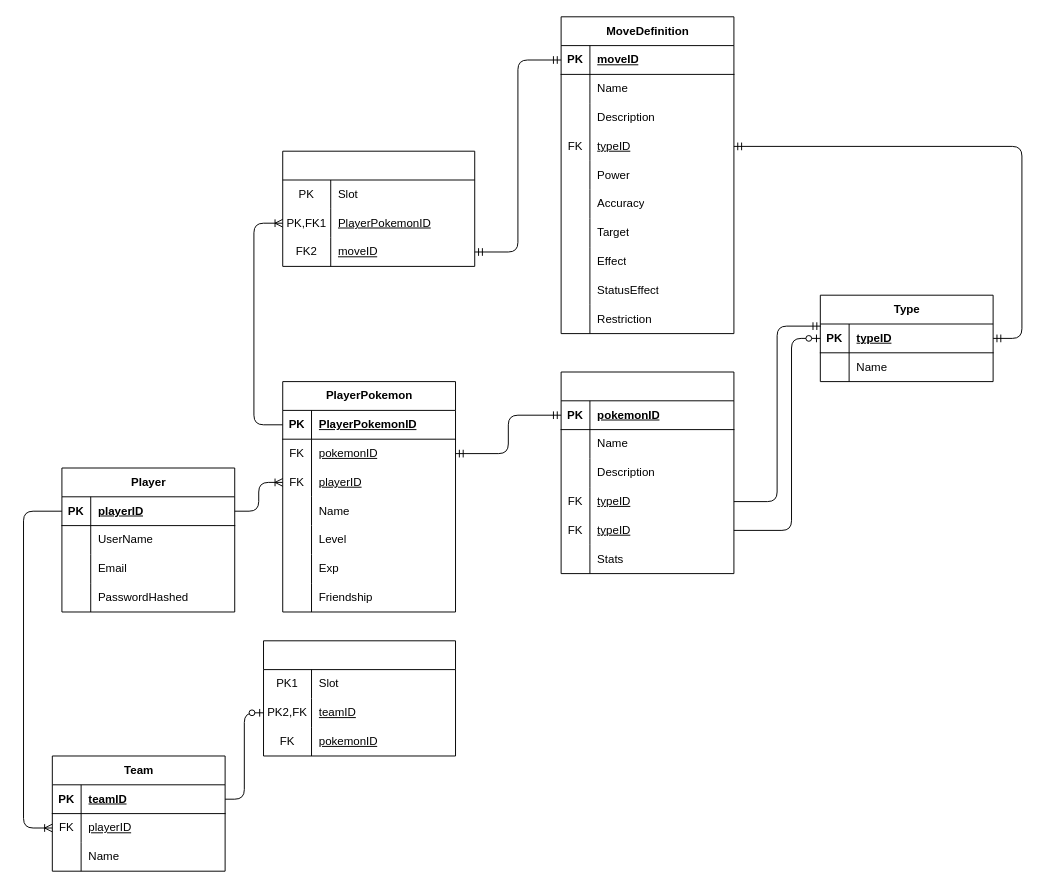
Image size: 1047x888. Some labels were removed from this diagram. Here are the shapes that lost their labels. From the top down, the box of each, then its label:
(282, 150, 475, 266): PokemonMove
(560, 371, 734, 574): PokemonDefinition
(263, 640, 456, 756): TeamPokemon
